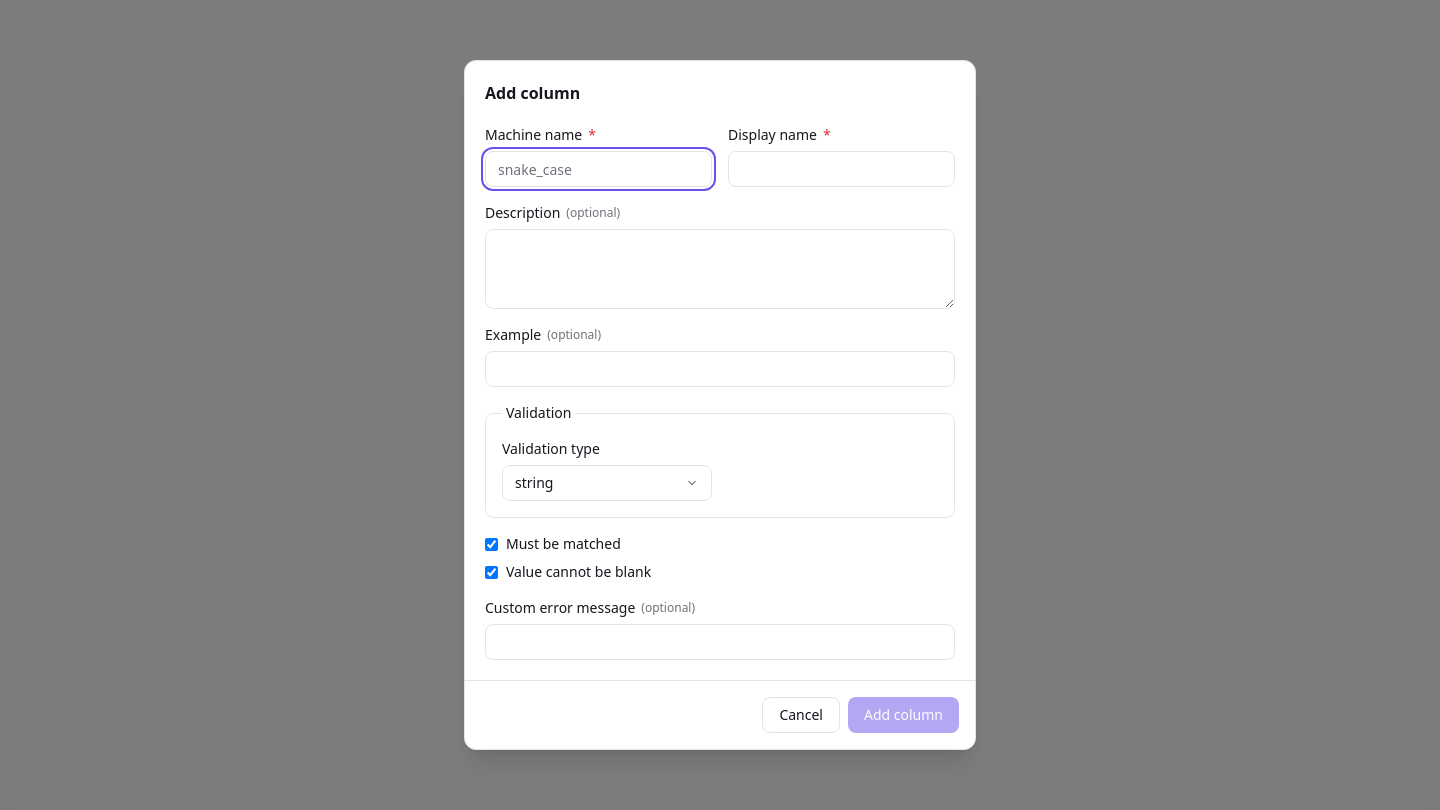
Test: ColumnEditor › hides the validation_format field unless the type is select or regex
The width and height of the screenshot is (1440, 810).
Select "select" in the dropdown labelled "Validation type" at point(607, 483), box [502,465,712,501]
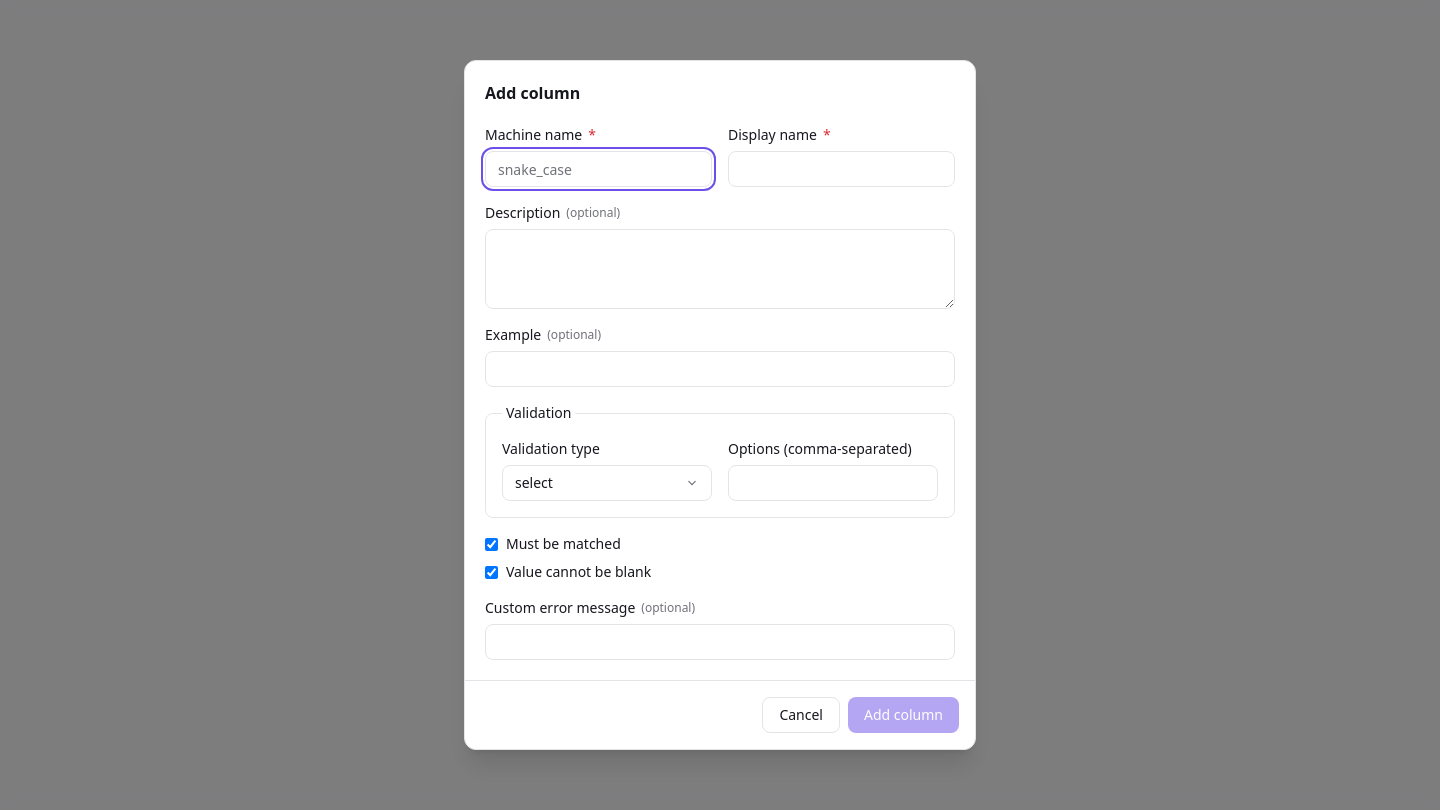
Check: the text "Options (comma-separated)" is shown, box [728,439,938,459]
Select "regex" in the dropdown labelled "Validation type" at point(607, 483), box [502,465,712,501]
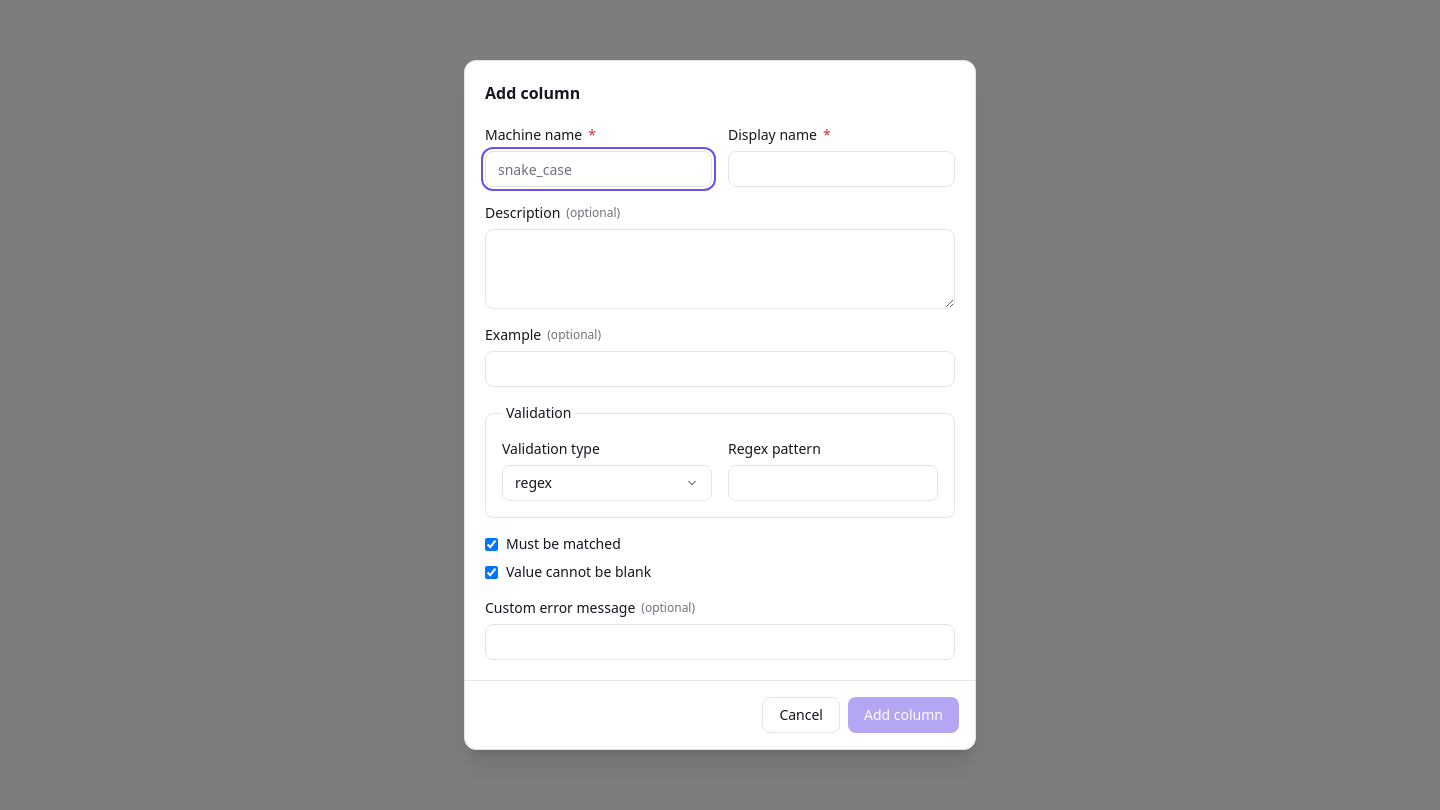
Check: the text "Regex pattern" is shown, box [728,439,821,458]
